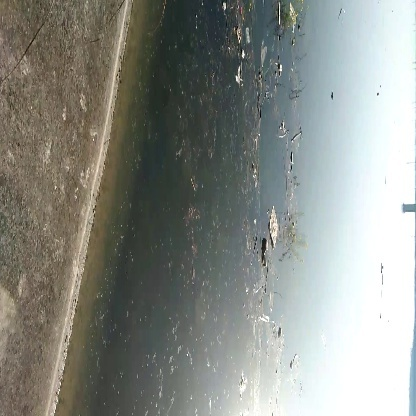plastic-bag: (268, 204, 285, 250)
